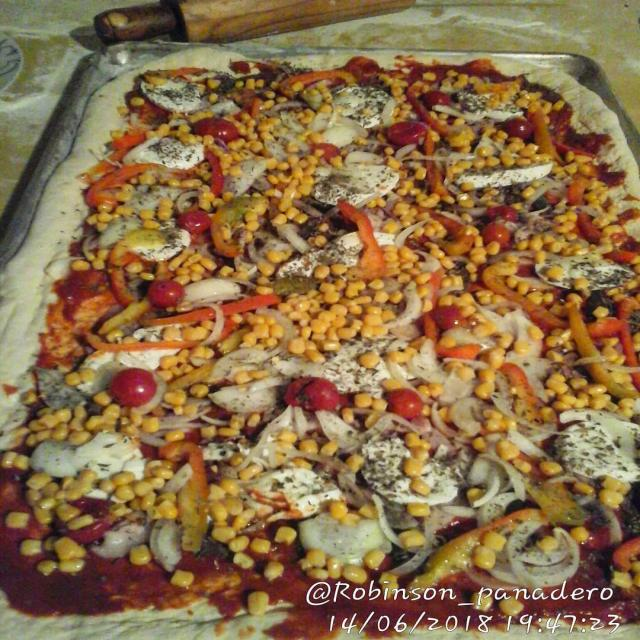peppers: (556, 302, 638, 405), (478, 257, 570, 342), (334, 196, 394, 272), (146, 294, 284, 326), (88, 330, 220, 362), (160, 437, 220, 499), (83, 160, 154, 207), (495, 360, 549, 409), (407, 80, 454, 134), (105, 247, 143, 304), (207, 212, 252, 255), (198, 143, 235, 194), (281, 66, 355, 91), (112, 129, 150, 154)
pizza: (0, 47, 640, 640)
